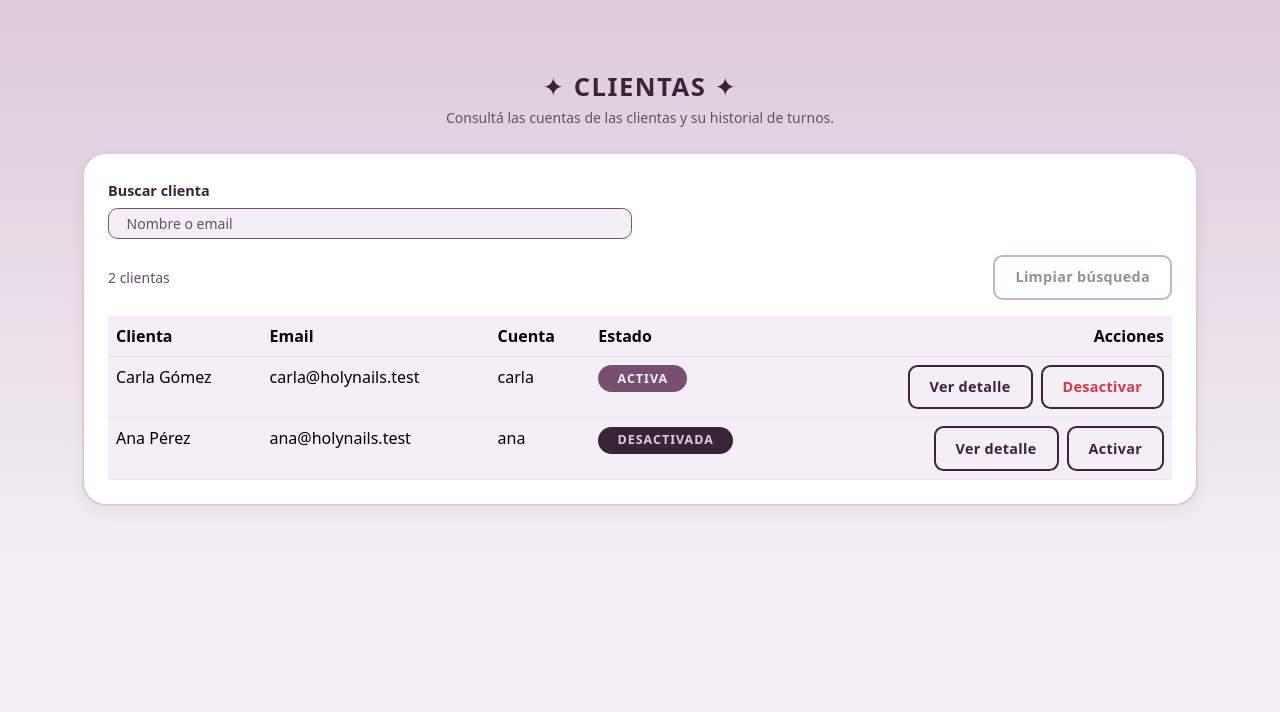
Test: AdminClientas — detalle e historial › abre el detalle con los datos de la clienta
Check: the table is shown, box top-left (108, 316), bottom-right (1172, 480)
Click the button "Ver detalle" in the row of "Carla Gómez".
click(970, 387)  # box top-left (908, 364), bottom-right (1033, 409)
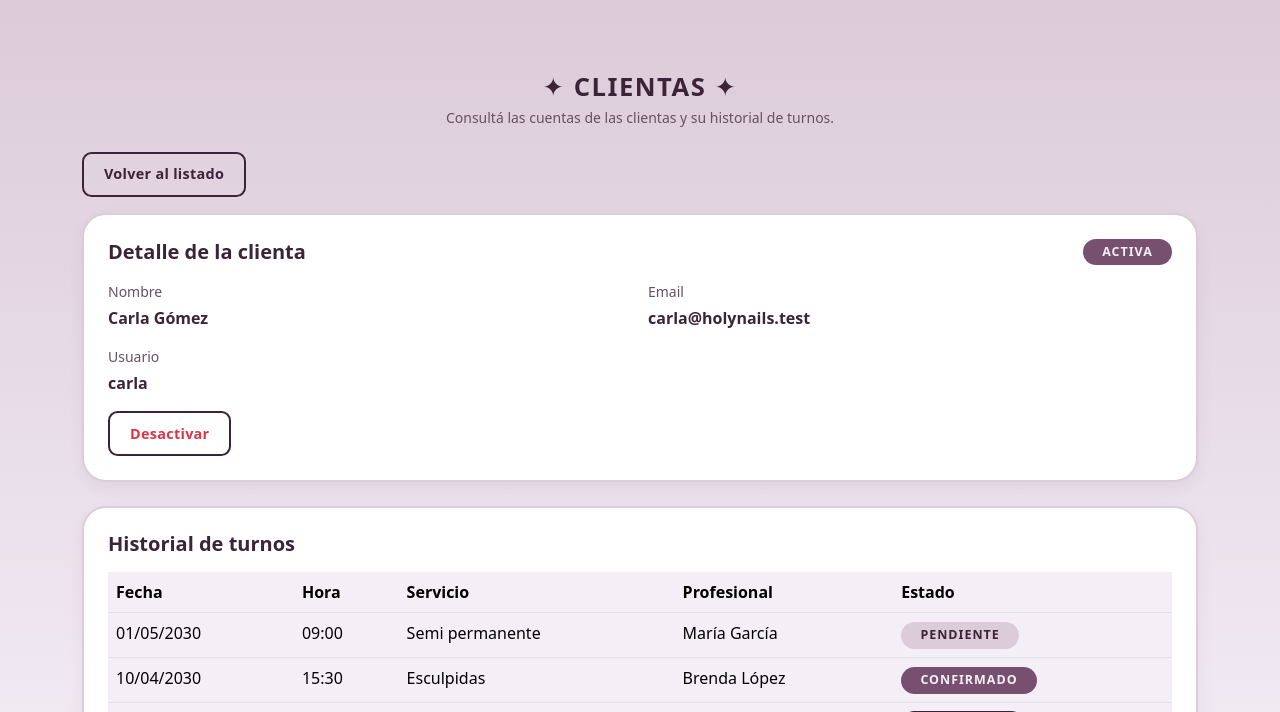
Check: the text "carla@holynails.test" is shown, box top-left (648, 307), bottom-right (810, 329)
Check: the heading "Detalle de la clienta" is shown, box top-left (108, 240), bottom-right (306, 264)
Check: the button "Ver detalle" is gone
